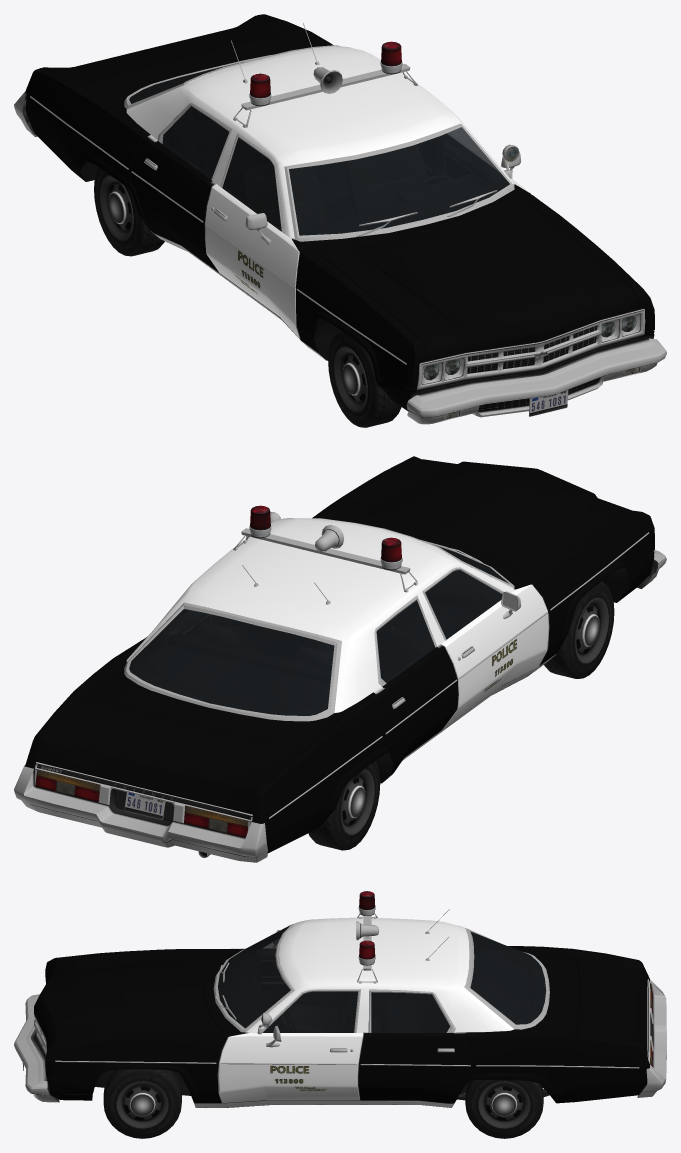
File: chapman-73-cop-cruiser-low-poly-model-b71558.glb
3 renders of one model, top to bottom at view 1: azimuth 30°, elevation 25°; view 2: azimuth 150°, elevation 25°; view 3: azimuth 270°, elevation 25°, orthographic. The views are drawn at different scales.
Visible parts, largest first — view 1: body, wheel-front-right, wheel-back-right; view 2: body, wheel-back-right, wheel-front-right; view 3: body, wheel-front-left, wheel-back-left.
Boxes of the visible parts, x1,y1,x2,y2 form: body: [14, 14, 666, 424]; wheel-front-right: [328, 330, 401, 427]; wheel-back-right: [94, 167, 164, 256]; body: [14, 456, 666, 862]; wheel-back-right: [184, 761, 380, 850]; wheel-front-right: [544, 581, 614, 678]; body: [14, 891, 666, 1107]; wheel-front-left: [103, 1069, 181, 1138]; wheel-back-left: [465, 1046, 652, 1138].
Bounding box in the file's own units: 2.12 × 1.69 × 5.67.
8 materials, 8 textured.
